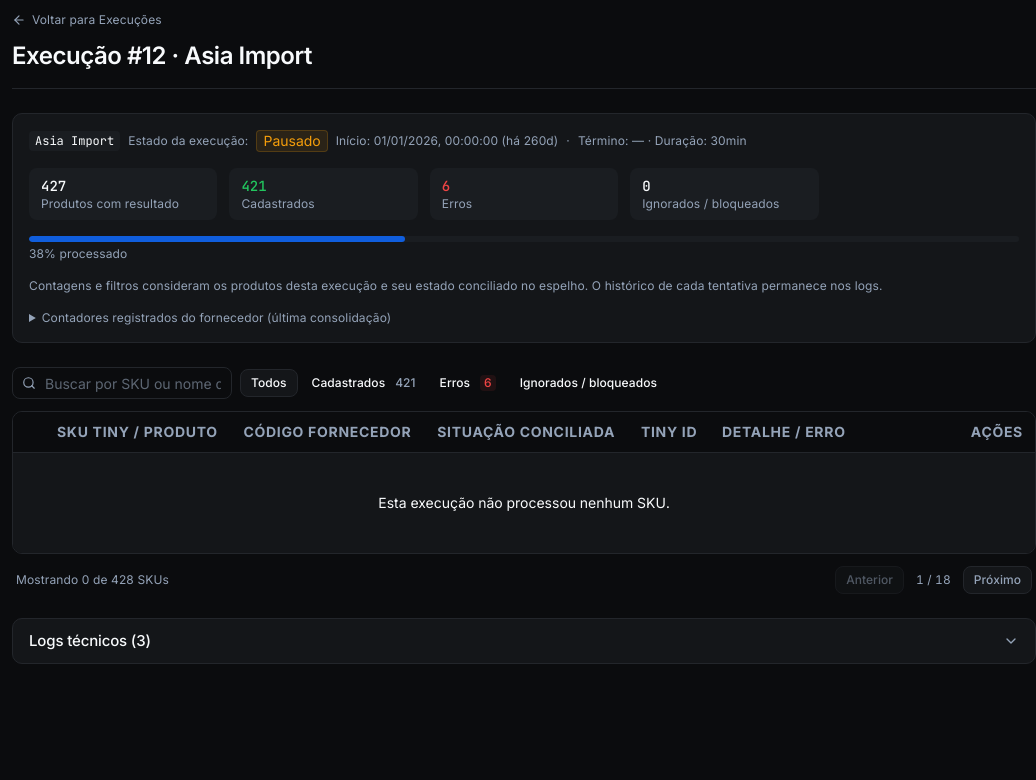
Test: ExecucaoDetalheView › com o lote rodando: mostra o progresso e o botão Parar
What coordinates should you click on to do the following:
click the button "Erros 6"
I would click on:
 (468, 383)
Its box is [430, 369, 506, 397].
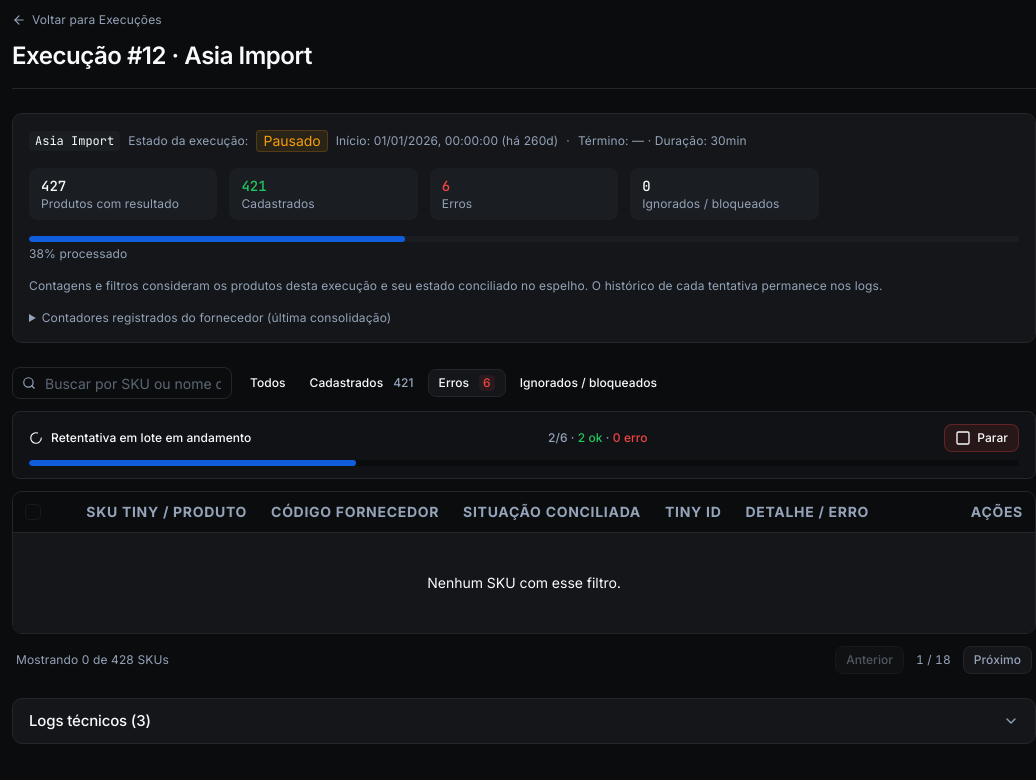
Now the text "Retentativa em lote em andamento" is shown, box [29, 430, 251, 446]
Now the text "2/6 · 2 ok · 0 erro" is shown, box [548, 430, 648, 446]
Now the button "Parar" is shown, box [944, 424, 1019, 452]
